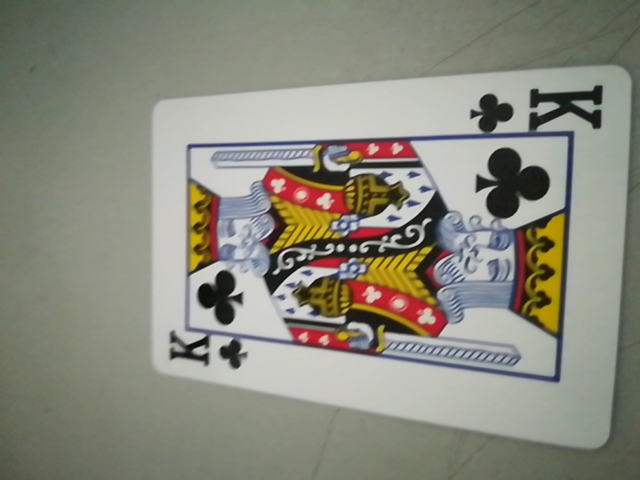mh k: (469, 81, 608, 138), (160, 325, 250, 375)
